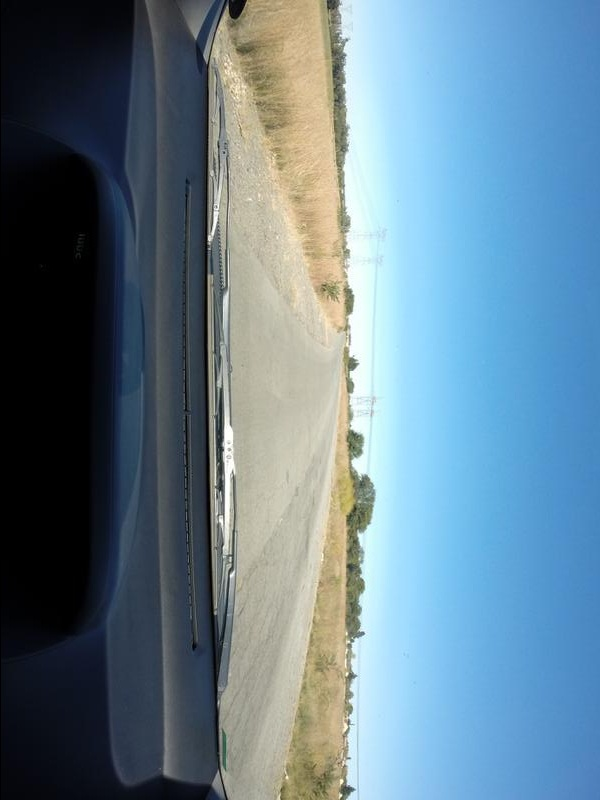pothole: (293, 487, 301, 499), (284, 469, 289, 482)
